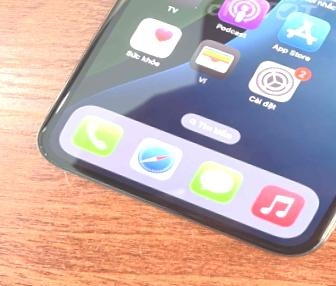scratch: (32, 141, 55, 161)
